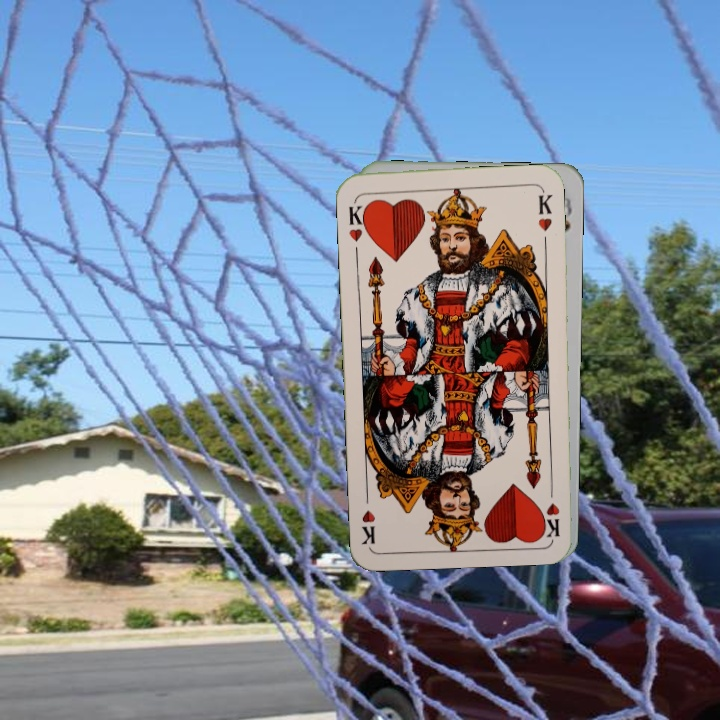HK: (344, 196, 371, 244), (542, 479, 562, 538)
